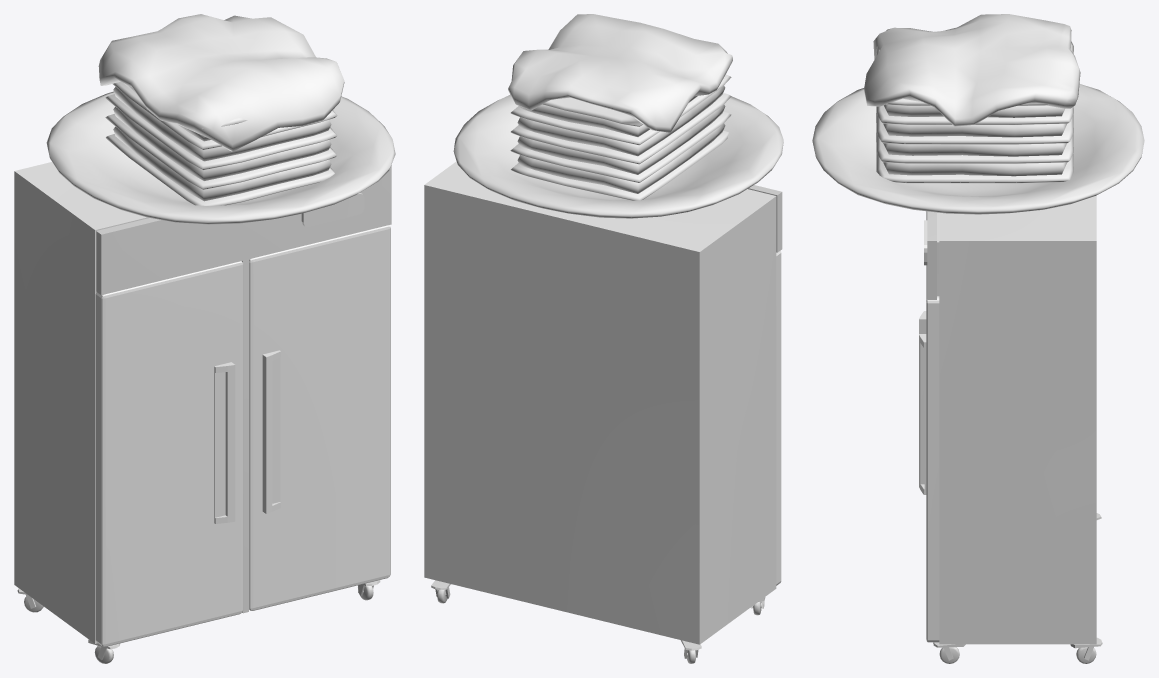
3 views of the same model, side by side, from view 1: azimuth 30°, elevation 25°; view 2: azimuth 150°, elevation 25°; view 3: azimuth 270°, elevation 25° (orthographic). The views are drawn at different scales.
Parts seen in each view (by area): view 1: Prop_Fridge_01_p01, Food_Lasagna_Lasagna, Prop_Fridge_01_p02, Prop_Fridge_01_p03; view 2: Prop_Fridge_01_p01, Food_Lasagna_Lasagna, Prop_Fridge_01_p02; view 3: Prop_Fridge_01_p01, Food_Lasagna_Lasagna, Prop_Fridge_01_p03.
Part boxes in pixels (bbox=[...]): Prop_Fridge_01_p01: bbox=[14, 162, 391, 663]; Food_Lasagna_Lasagna: bbox=[46, 14, 395, 224]; Prop_Fridge_01_p02: bbox=[95, 261, 243, 646]; Prop_Fridge_01_p03: bbox=[249, 225, 390, 610]; Prop_Fridge_01_p01: bbox=[424, 161, 782, 663]; Food_Lasagna_Lasagna: bbox=[453, 14, 783, 218]; Prop_Fridge_01_p02: bbox=[776, 251, 781, 585]; Prop_Fridge_01_p01: bbox=[924, 195, 1102, 663]; Food_Lasagna_Lasagna: bbox=[812, 14, 1144, 214]; Prop_Fridge_01_p03: bbox=[919, 265, 939, 642].
Bounding box in the file's own units: 1.64 × 3.03 × 1.64.
